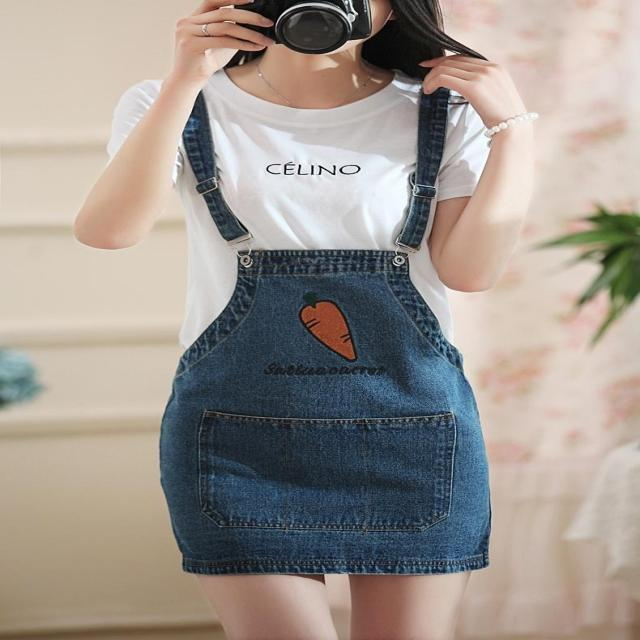short sleeve top: (102, 66, 510, 388)
sling dress: (160, 77, 492, 575)
